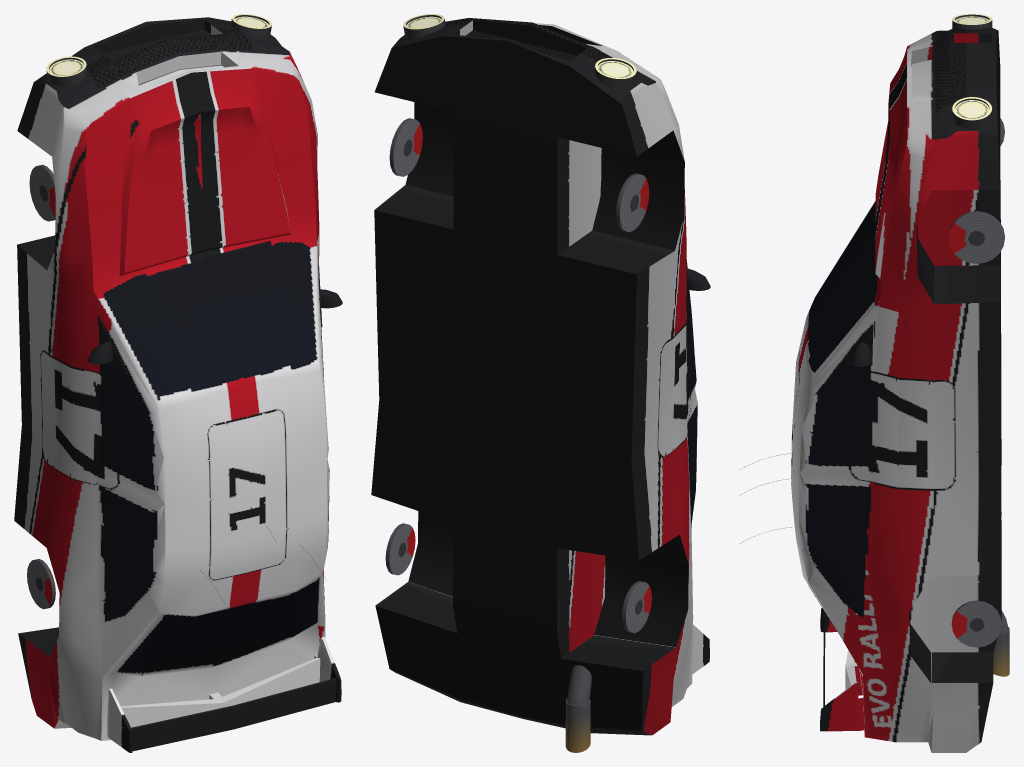
Rendered from evo_rally.obj.
3 renders of one model, left to right at view 1: azimuth 30°, elevation 25°; view 2: azimuth 150°, elevation 25°; view 3: azimuth 270°, elevation 25°, orthographic. The views are drawn at different scales.
Parts seen in each view (by area): view 1: evo_rally_body; view 2: evo_rally_body; view 3: evo_rally_body.
Boxes of the visible parts, x1,y1,x2,y2 form: evo_rally_body: (14, 14, 342, 752); evo_rally_body: (371, 14, 710, 752); evo_rally_body: (740, 14, 1009, 752).
Size of the model in its own units: 187 by 449 by 167.
1 material, 1 textured.
